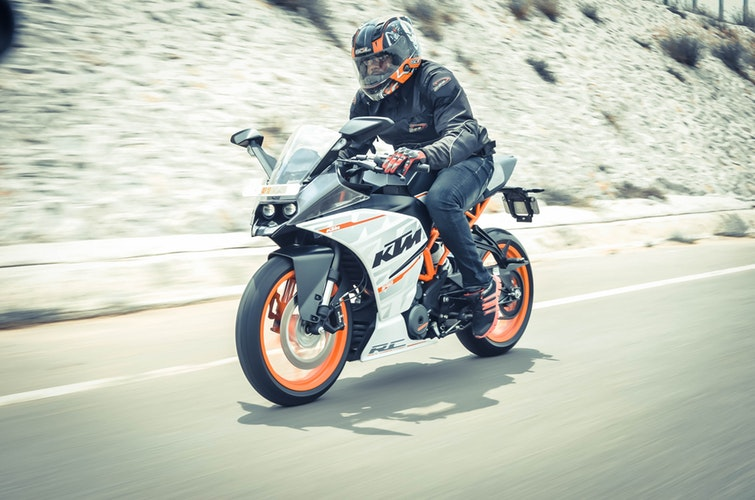helmet: (347, 16, 424, 91)
